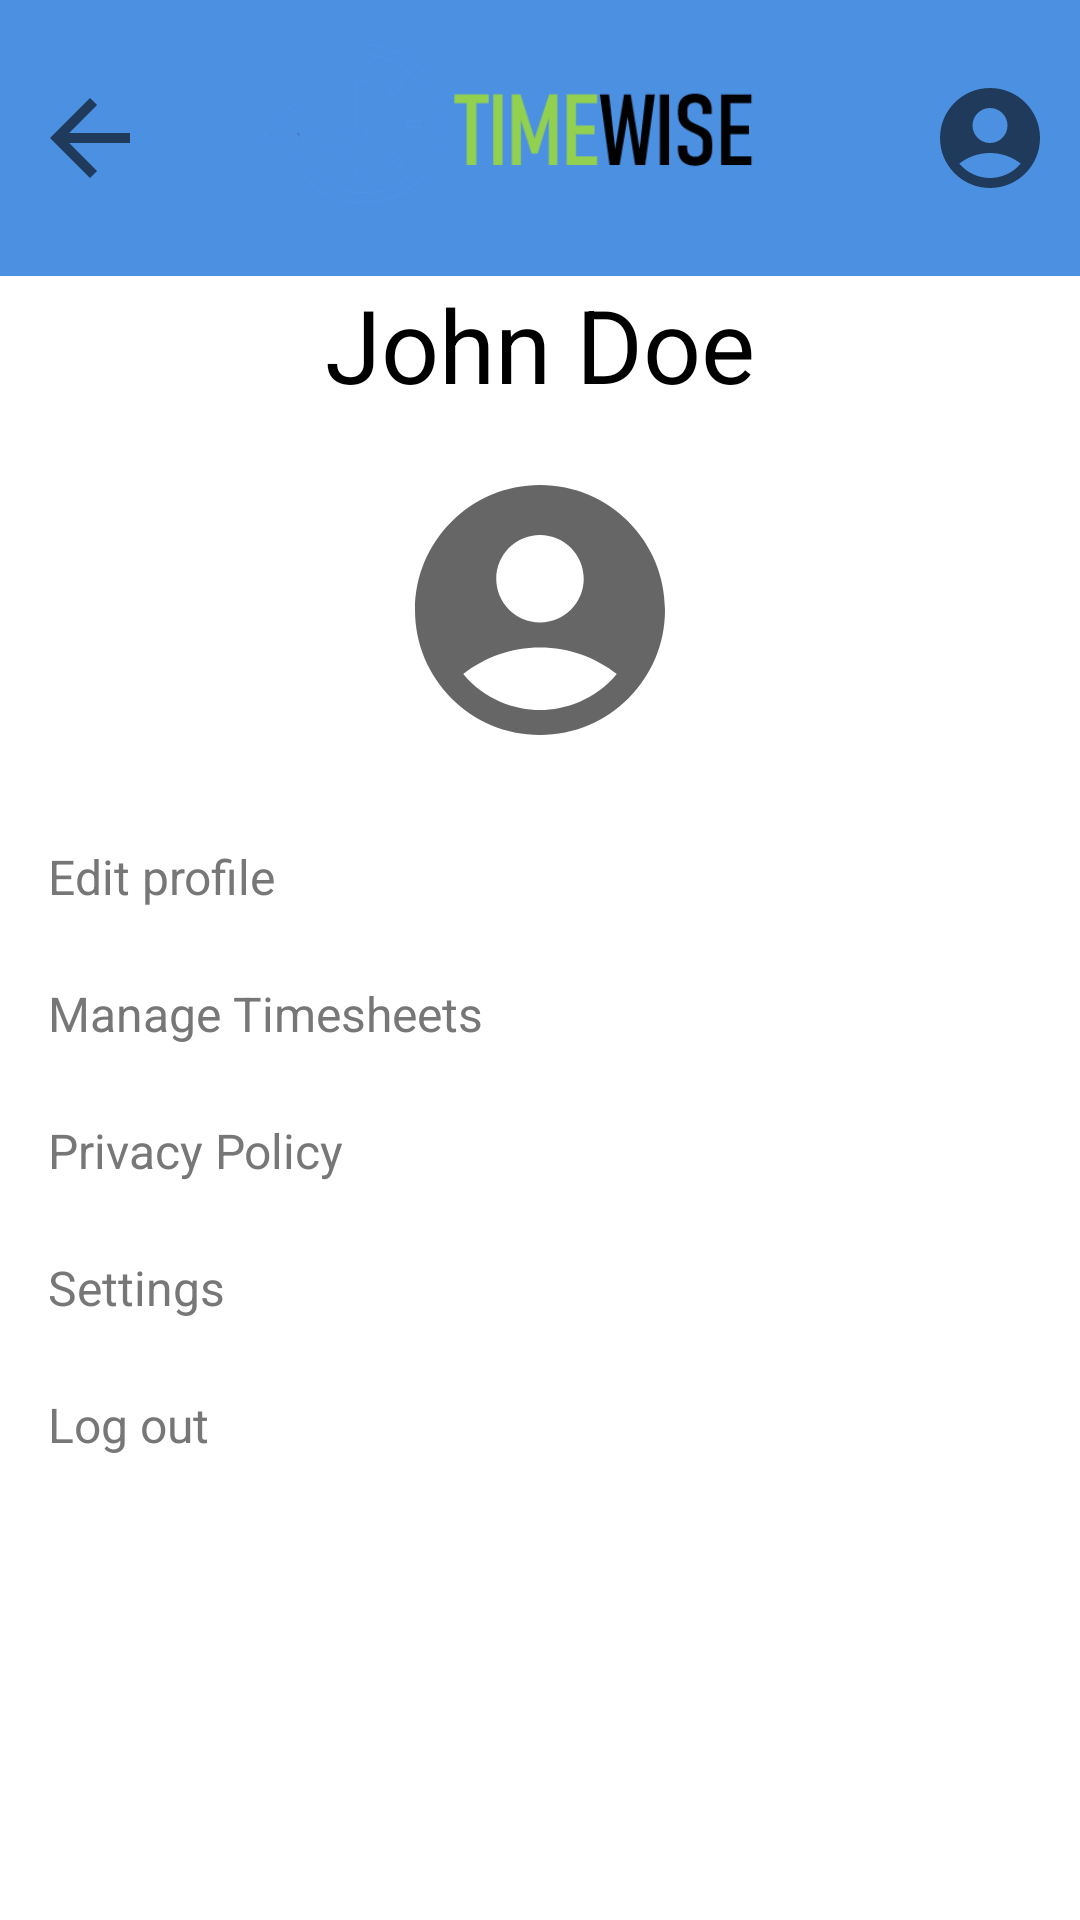

Screen size 1080w x 1920h. Icon name, then its box in pixels as (x1, y1, x2, y2):
account circle: (940, 88, 1040, 188), (415, 485, 665, 735)
arrow back: (50, 98, 130, 178)
